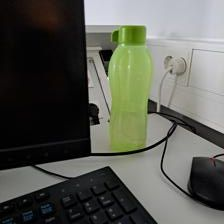bottle: (104, 22, 155, 153)
